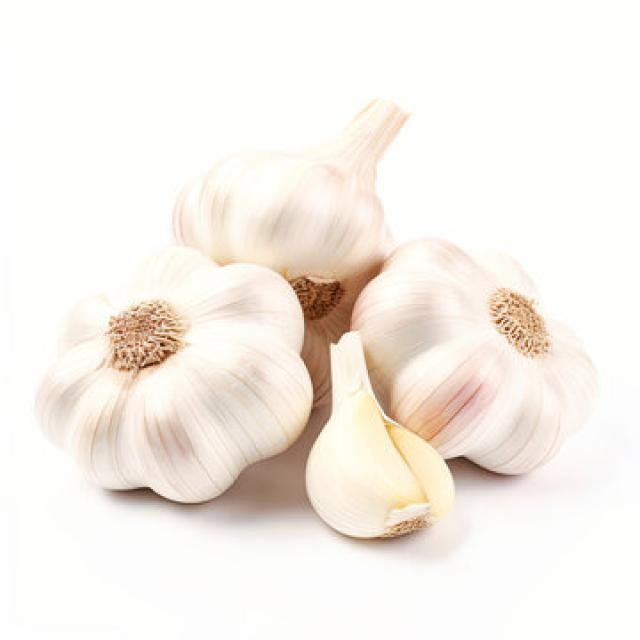Garlic: (170, 96, 410, 409), (34, 244, 313, 503), (348, 234, 598, 476), (304, 329, 455, 539)
